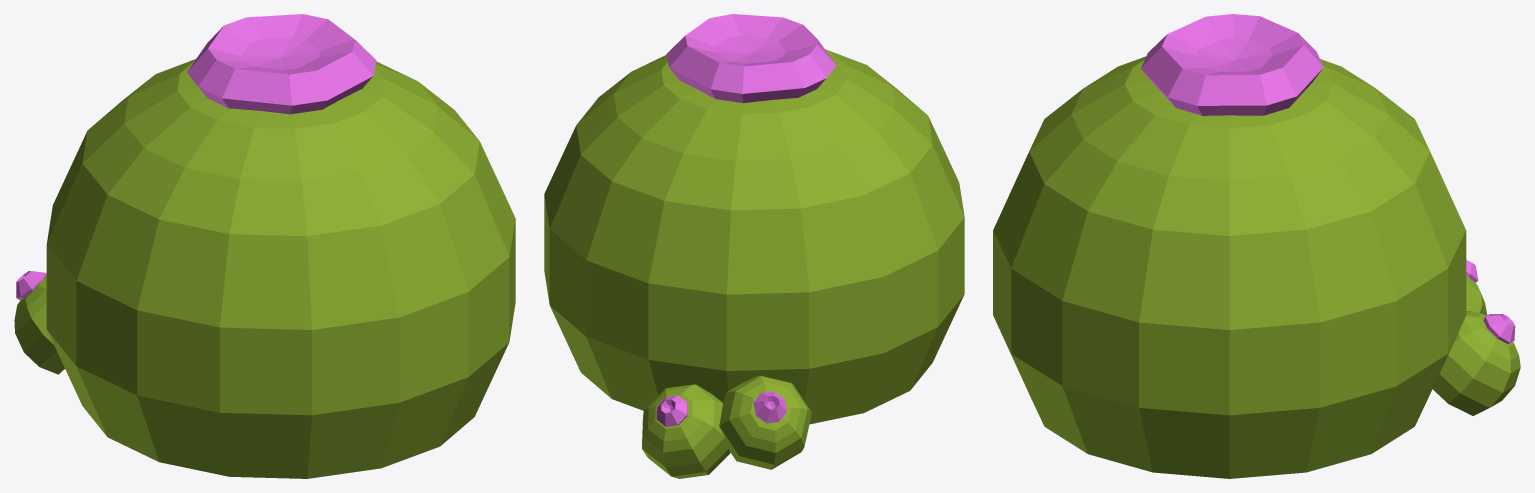
The model's file is Mdl_Cactus_Small_.fbx.
3 renders of one model, left to right at view 1: azimuth 30°, elevation 25°; view 2: azimuth 150°, elevation 25°; view 3: azimuth 270°, elevation 25°, orthographic. The views are drawn at different scales.
Visible parts, largest first — view 1: Mdl_Cactus_Small_; view 2: Mdl_Cactus_Small_; view 3: Mdl_Cactus_Small_.
Boxes of the visible parts, <box> form: Mdl_Cactus_Small_: <box>14,14,515,478</box>; Mdl_Cactus_Small_: <box>544,14,964,478</box>; Mdl_Cactus_Small_: <box>993,14,1520,478</box>.
Size of the model in its own units: 3.29 by 2.97 by 3.67.
